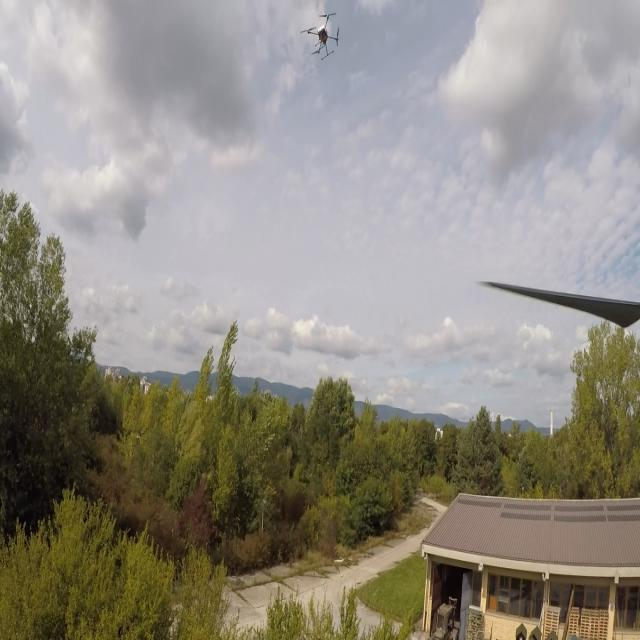UAV: (292, 11, 354, 64)
